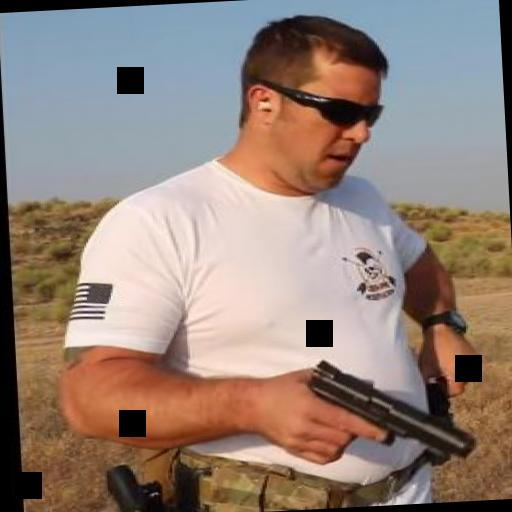Handgun: (295, 347, 484, 467)
